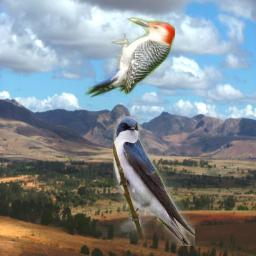Swallow: (113, 116, 195, 246)
Woodpecker: (82, 15, 175, 100)
